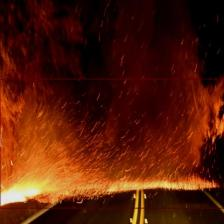fire: (0, 78, 224, 208)
